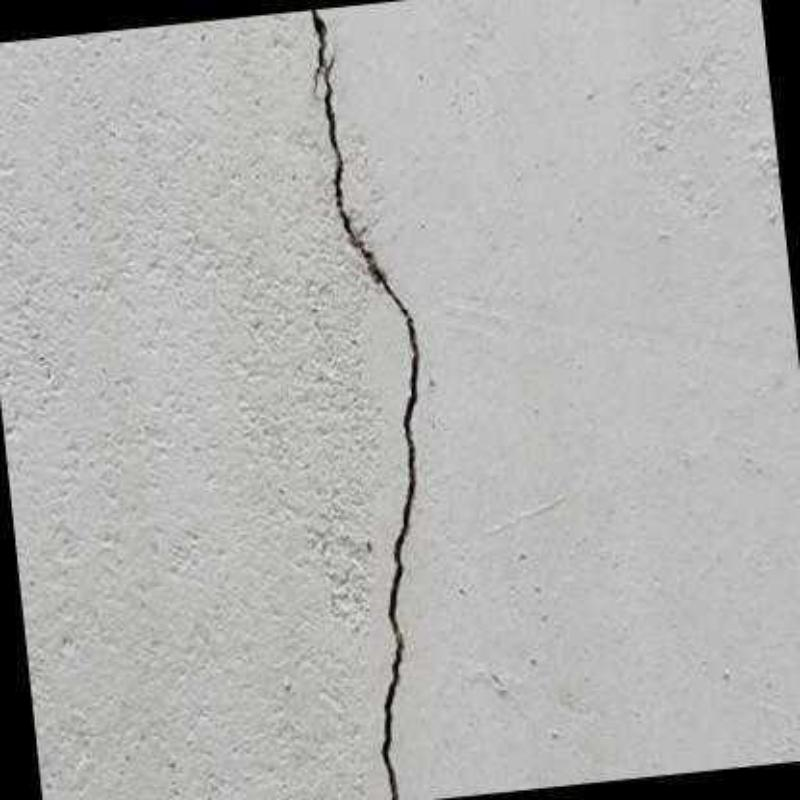pothole: (323, 51, 421, 799), (305, 7, 327, 91)
